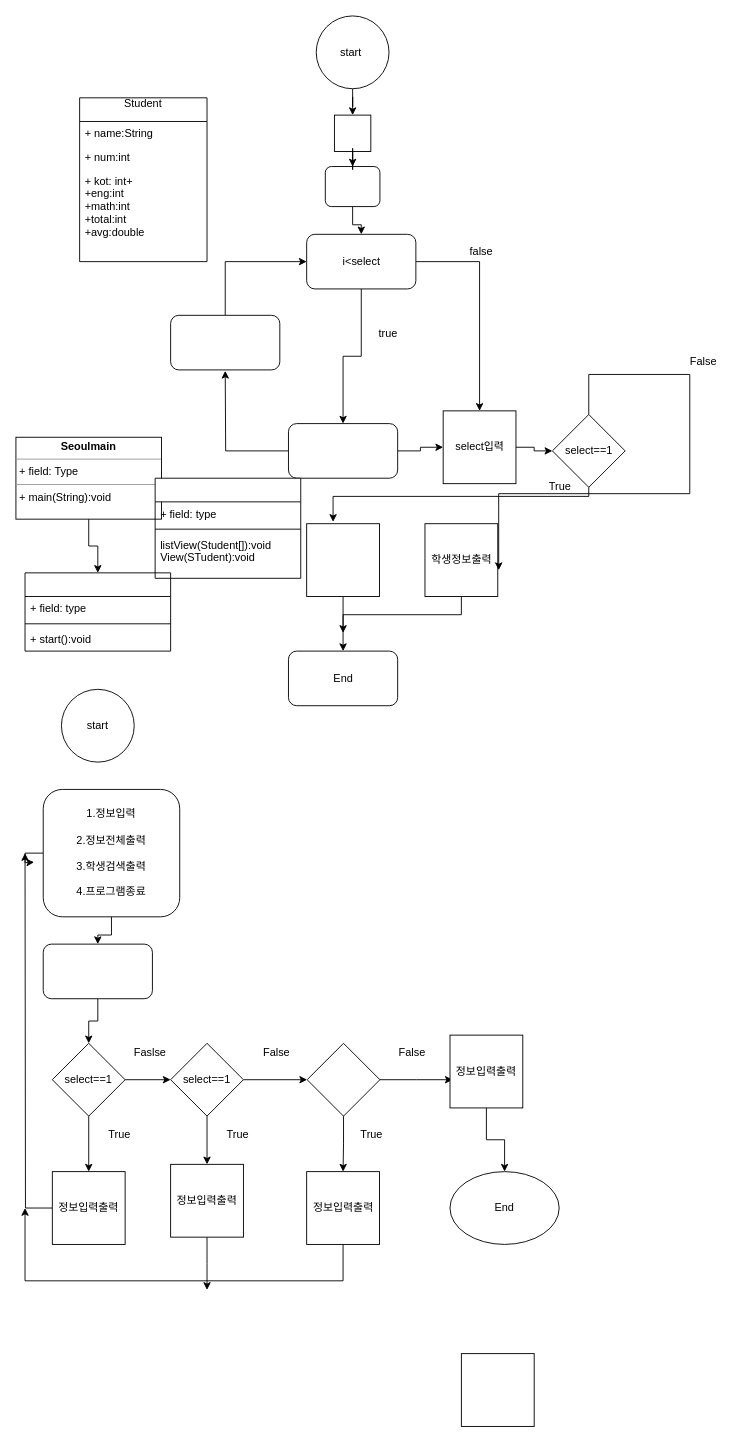
This 740x1442 diagram has some shape labels left out. Here are the shapes that lost their labels. From the top down, the box of each, then its label:
(334, 114, 371, 152): 학생수입력
(324, 166, 380, 207): i=0
(170, 314, 280, 370): i=i+1
(288, 423, 398, 478): 정보입력 이름,번호,국영수 총점,평균계산
(154, 477, 301, 578): StudentView
(306, 523, 379, 597): 정보전체출력
(24, 572, 171, 651): SeoulMenu
(42, 943, 152, 999): select 숫자 입력
(306, 1042, 380, 1116): select==3
